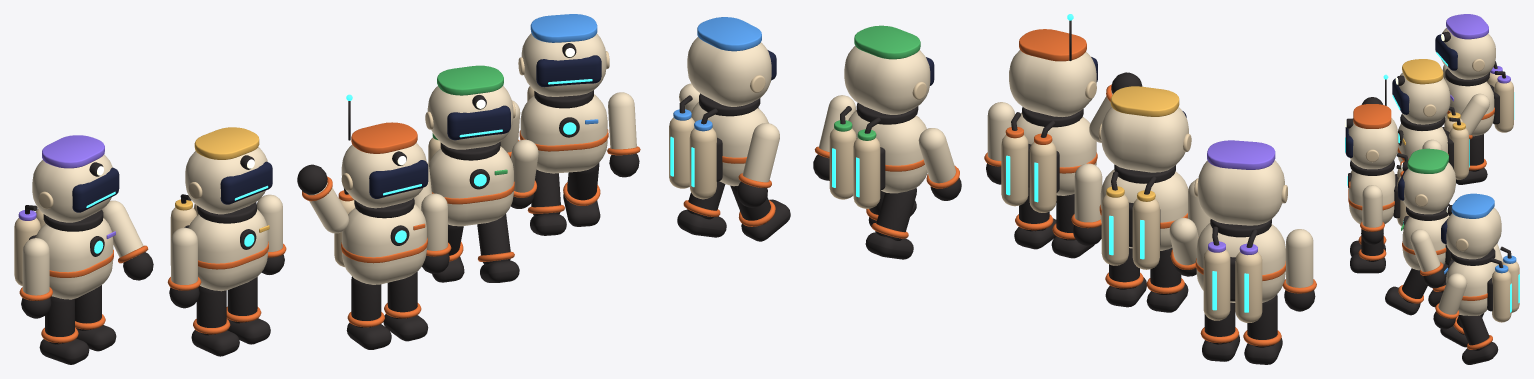
The model's file is astro-c-crew.glb.
The picture shows the model from 3 angles, left to right: view 1: azimuth 30°, elevation 25°; view 2: azimuth 150°, elevation 25°; view 3: azimuth 270°, elevation 25°; orthographic projection. The views are drawn at different scales.
Parts seen in each view (by area): view 1: body, body.004, body.003, body.001, body.002, leg_r.001, leg_r, arm_l.004, leg_r.003, arm_r.003, arm_r.001, leg_l (+11 smaller); view 2: body.002, body.003, body, body.001, body.004, leg_r.002, arm_r.004, arm_r.003, arm_l.001, arm_r.002, leg_r.003, leg_r.001 (+11 smaller); view 3: body.004, body.003, body.001, body, body.002, leg_l.004, arm_l.002, arm_l, leg_l.002, arm_l.004, leg_l, leg_l.003 (+5 smaller).
Part boxes in pixels (x1=…): body: x1=334, y1=94, x2=428, y2=284; body.004: x1=518, y1=14, x2=609, y2=173; body.003: x1=14, y1=135, x2=119, y2=299; body.001: x1=170, y1=127, x2=272, y2=291; body.002: x1=425, y1=65, x2=515, y2=226; leg_r.001: x1=191, y1=286, x2=239, y2=356; leg_r: x1=346, y1=276, x2=391, y2=349; arm_l.004: x1=607, y1=92, x2=640, y2=177; leg_r.003: x1=39, y1=296, x2=89, y2=364; arm_r.003: x1=19, y1=238, x2=52, y2=318; arm_r.001: x1=167, y1=227, x2=201, y2=308; leg_l: x1=383, y1=271, x2=428, y2=341; body.002: x1=829, y1=25, x2=934, y2=208; body.003: x1=1194, y1=140, x2=1287, y2=322; body: x1=1001, y1=14, x2=1097, y2=212; body.001: x1=1098, y1=86, x2=1191, y2=269; body.004: x1=669, y1=17, x2=776, y2=199; leg_r.002: x1=865, y1=187, x2=916, y2=259; arm_r.004: x1=737, y1=123, x2=779, y2=207; arm_r.003: x1=1282, y1=229, x2=1316, y2=311; arm_l.001: x1=1071, y1=163, x2=1102, y2=246; arm_r.002: x1=918, y1=128, x2=961, y2=200; leg_r.003: x1=1243, y1=294, x2=1282, y2=364; leg_r.001: x1=1146, y1=248, x2=1188, y2=312; body.004: x1=1441, y1=193, x2=1519, y2=322; body.003: x1=1435, y1=14, x2=1514, y2=136; body.001: x1=1392, y1=59, x2=1469, y2=179; body: x1=1345, y1=74, x2=1408, y2=226; body.002: x1=1398, y1=148, x2=1456, y2=270; leg_l.004: x1=1458, y1=315, x2=1498, y2=364; arm_l.002: x1=1410, y1=229, x2=1445, y2=288; arm_l: x1=1360, y1=185, x2=1384, y2=244; leg_l.002: x1=1385, y1=268, x2=1427, y2=315; arm_l.004: x1=1433, y1=273, x2=1467, y2=329; leg_l: x1=1350, y1=229, x2=1386, y2=273; leg_l.003: x1=1456, y1=134, x2=1487, y2=184.
Bounding box in the file's own units: 4.72 × 1.79 × 1.56.
